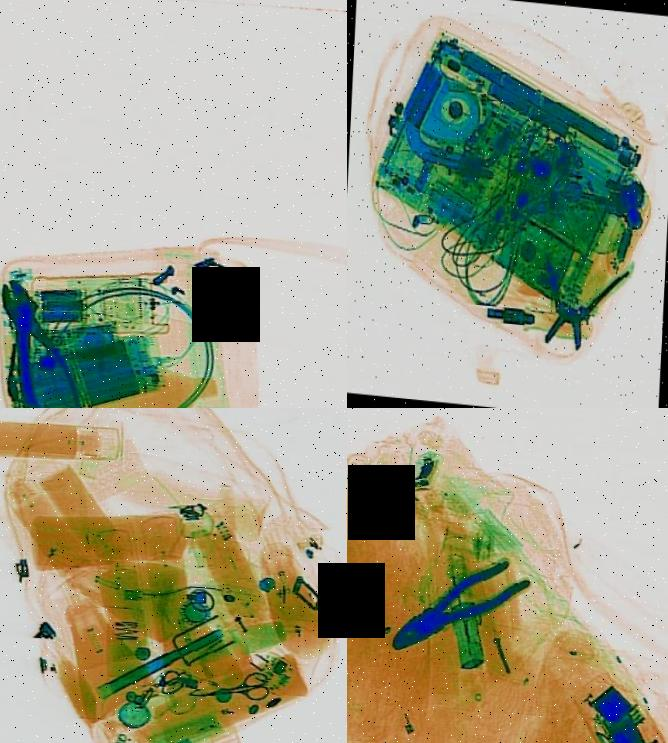Pliers: (382, 538, 538, 674), (0, 263, 99, 408), (527, 239, 632, 365)
Scissors: (206, 664, 276, 712)
